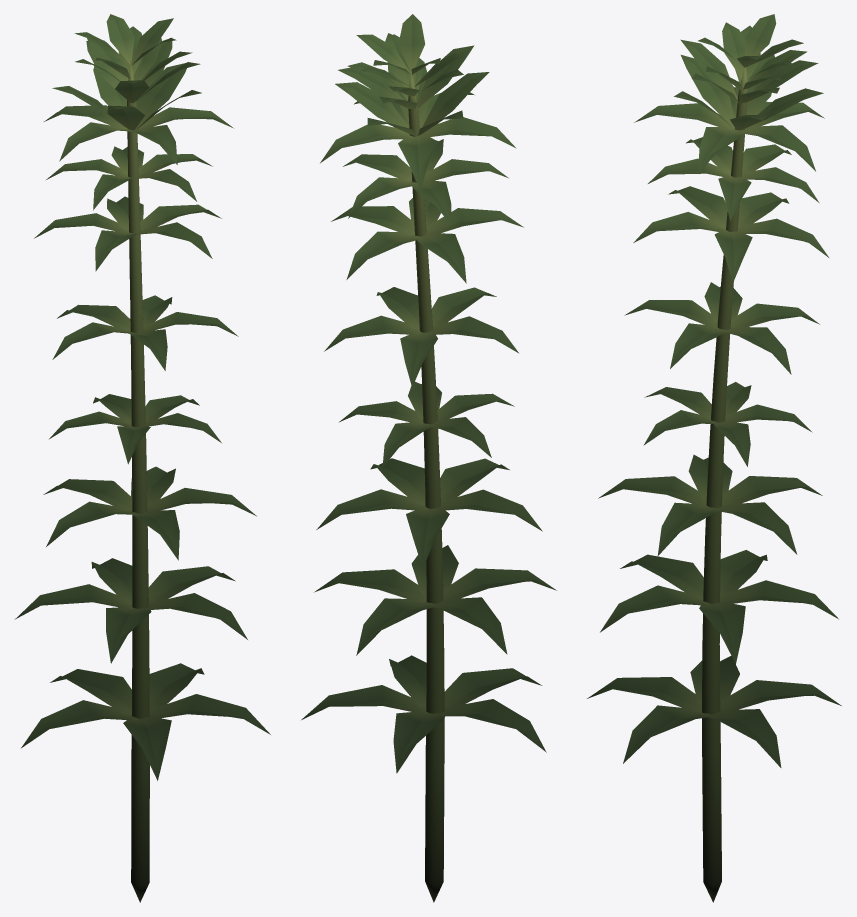
3 views of the same model, side by side, from view 1: azimuth 30°, elevation 25°; view 2: azimuth 150°, elevation 25°; view 3: azimuth 270°, elevation 25° (orthographic).
Parts seen in each view (by area): view 1: alt439; view 2: alt439; view 3: alt439.
Boxes of the visible parts, x1=… form: alt439: x1=14, y1=14, x2=270, y2=902; alt439: x1=301, y1=14, x2=556, y2=902; alt439: x1=587, y1=14, x2=841, y2=902.
Bounding box in the file's own units: 0.1354 × 0.5 × 0.1327.
